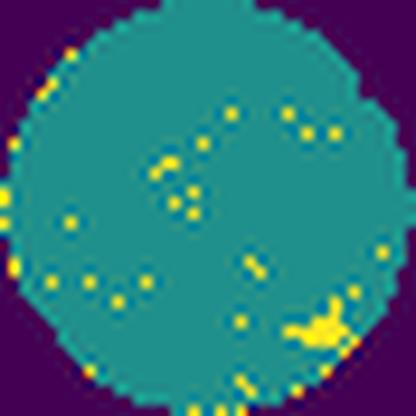Loc: (281, 293, 355, 349)
